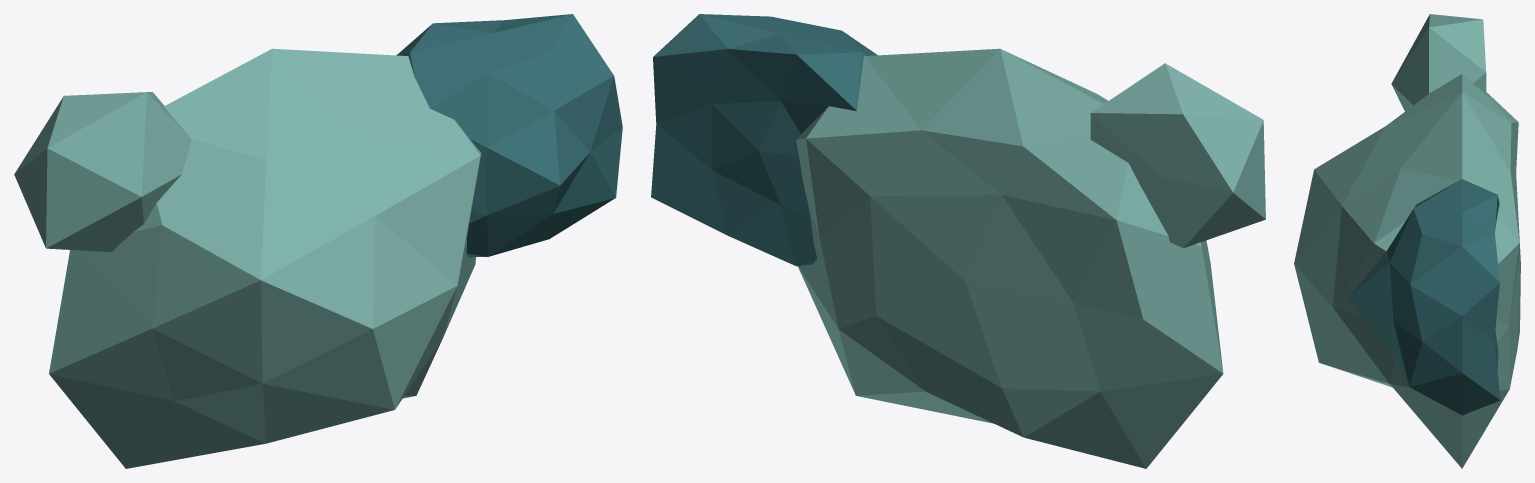
File: rocs.glb
The picture shows the model from 3 angles, left to right: view 1: azimuth 30°, elevation 25°; view 2: azimuth 150°, elevation 25°; view 3: azimuth 270°, elevation 25°; orthographic projection. The views are drawn at different scales.
Parts seen in each view (by area): view 1: gros, moyen, petit; view 2: gros, moyen, petit; view 3: gros, moyen, petit.
Part boxes in pixels (x1=…): gros: x1=49, y1=48, x2=481, y2=468; moyen: x1=396, y1=14, x2=622, y2=257; petit: x1=14, y1=92, x2=191, y2=251; gros: x1=796, y1=48, x2=1223, y2=468; moyen: x1=651, y1=14, x2=877, y2=266; petit: x1=1090, y1=63, x2=1265, y2=248; gros: x1=1294, y1=74, x2=1520, y2=468; moyen: x1=1348, y1=179, x2=1500, y2=415; petit: x1=1391, y1=14, x2=1486, y2=111.
Bounding box in the file's own units: 3.69 × 2.38 × 1.5.
